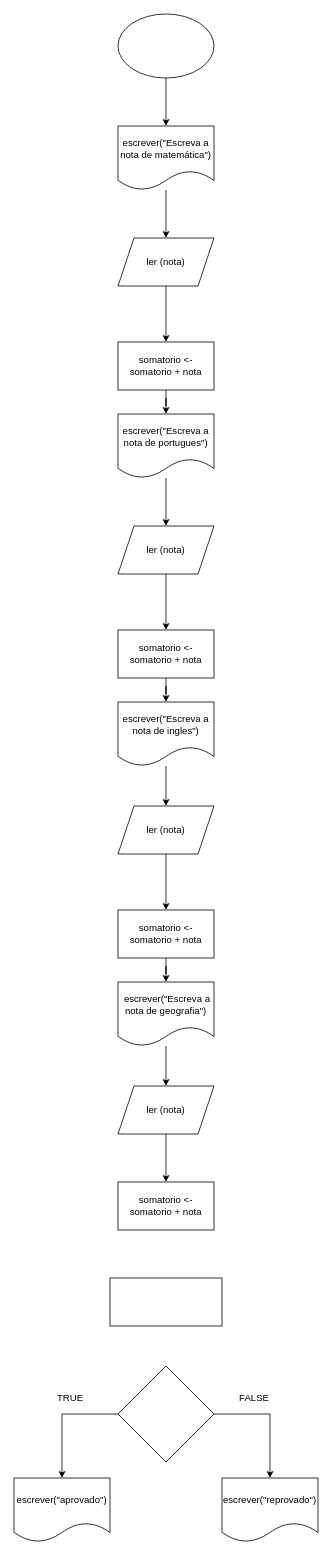
Image size: 332x1556. Some labels were removed from this diagram. The box of each missing label's shape, as (x1, y1, x2, y2) in pixels:
Inicio: (117, 13, 214, 78)
media <- (somatorio) / 4: (109, 1277, 222, 1326)
se (media >= 9.5): (117, 1365, 214, 1462)
